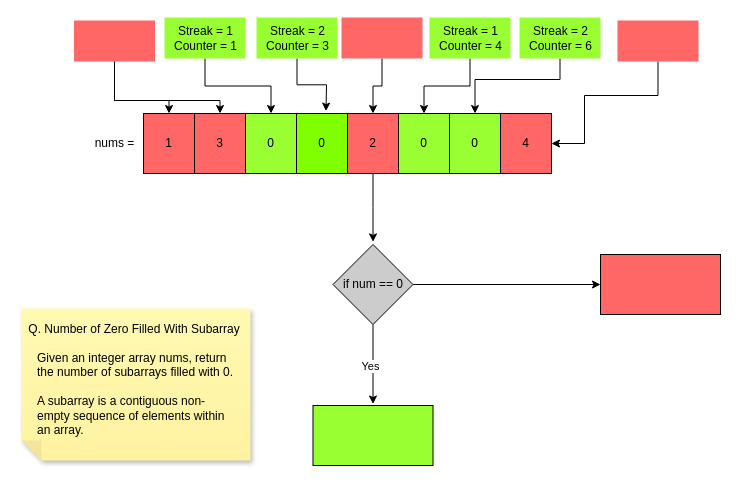
The diagram is 738 pixels wide and 484 high, and some of its shapes have lost their labels. Each missing label, with the centre of its shape:
"Streak += 1 counter += Streak" belongs at (x=372, y=435).
"Streak = 0" belongs at (x=660, y=284).
"Streak = 0 Counter = 0" belongs at (x=114, y=40).
"Streak = 0 Counter = 3" belongs at (x=381, y=37).
"Streak = 0 Counter = 6" belongs at (x=657, y=40).
